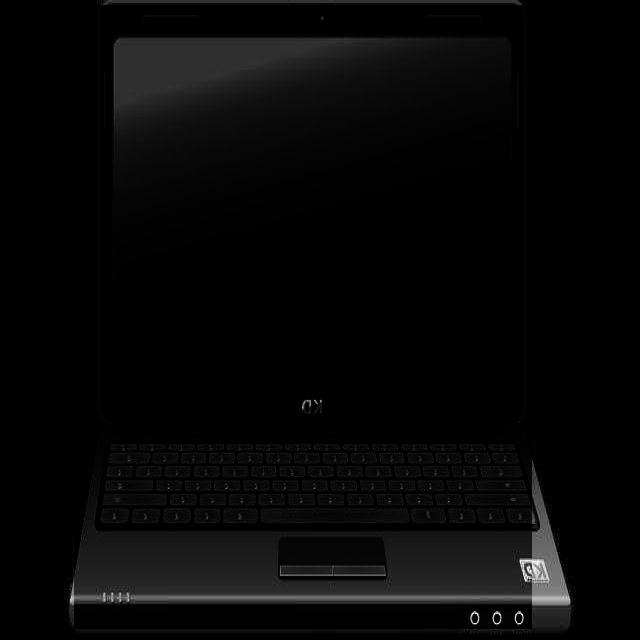-keyboard-: (75, 6, 532, 630)
